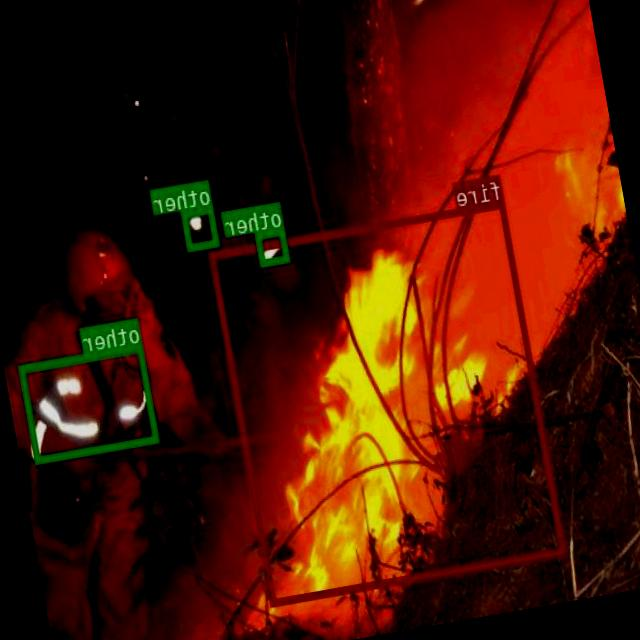fire: (209, 198, 566, 604)
